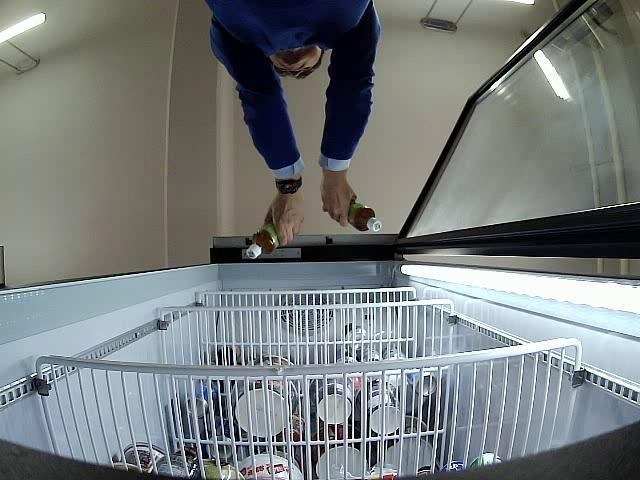19_17cha: (245, 224, 281, 260), (348, 202, 382, 232)
